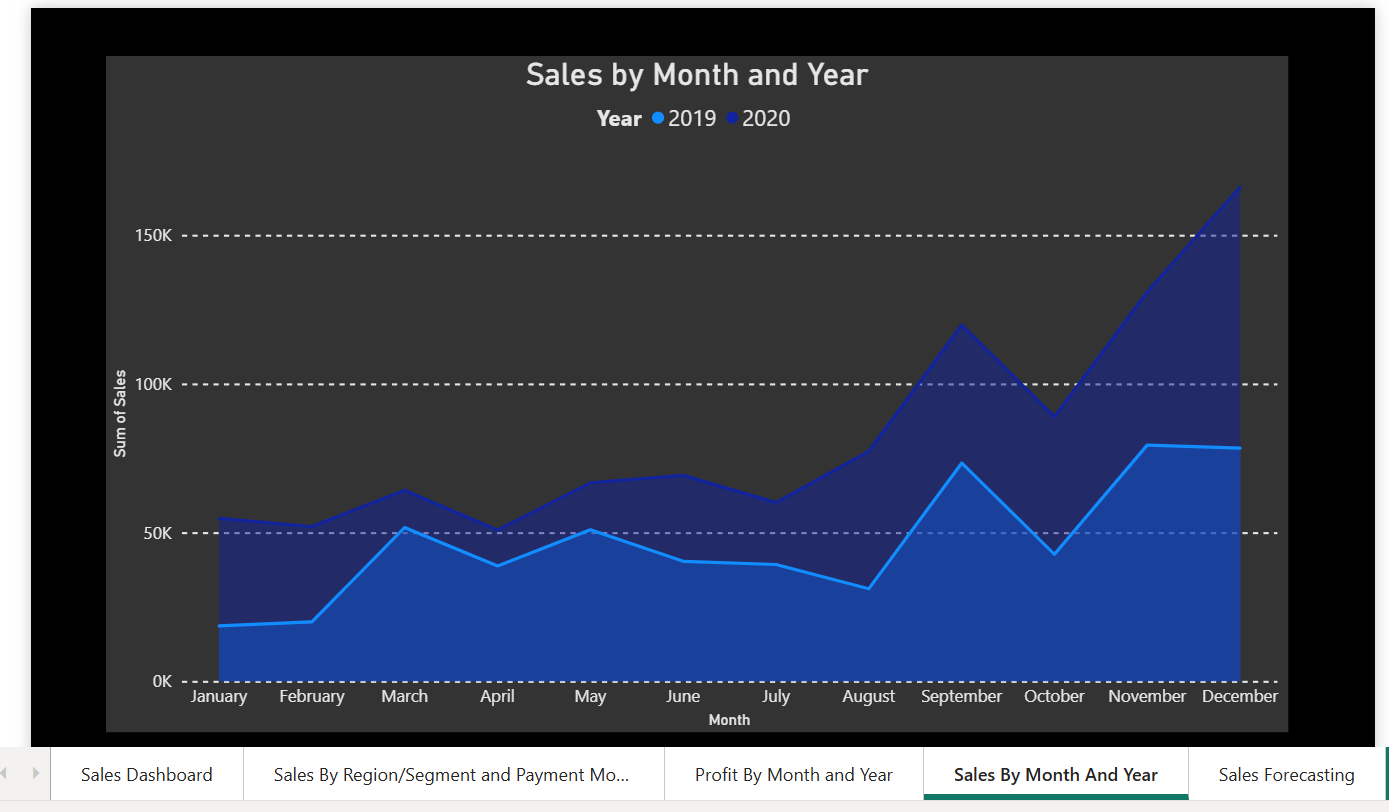

This screenshot's page, from the dashboard's own definition file:
{"tool":"powerbi","page":{"name":"Sales By Month And Year","canvas":[1280,720],"ordinal":3},"visuals":[{"type":"areaChart","title":"Sales by Month and Year","fields":{"Y":["Sum(SuperStore_Sales_Dataset.Sales)"],"Category":["SuperStore_Sales_Dataset.Order Date.Variation.Date Hierarchy.Month"],"Series":["SuperStore_Sales_Dataset.Order Date.Variation.Date Hierarchy.Year"]},"box":[71.6,46.1,1126.2,644.2],"z":0}]}

Visuals, with their boxes on the page's 1280x720 design canvas (x1, y1, x2, y2). These are canvas units, not pixel positions in the 1389x812 screenshot, which may show the page scaled, cropped or inside an application window:
"Sales by Month and Year" areaChart: <region>72, 46, 1198, 690</region>
